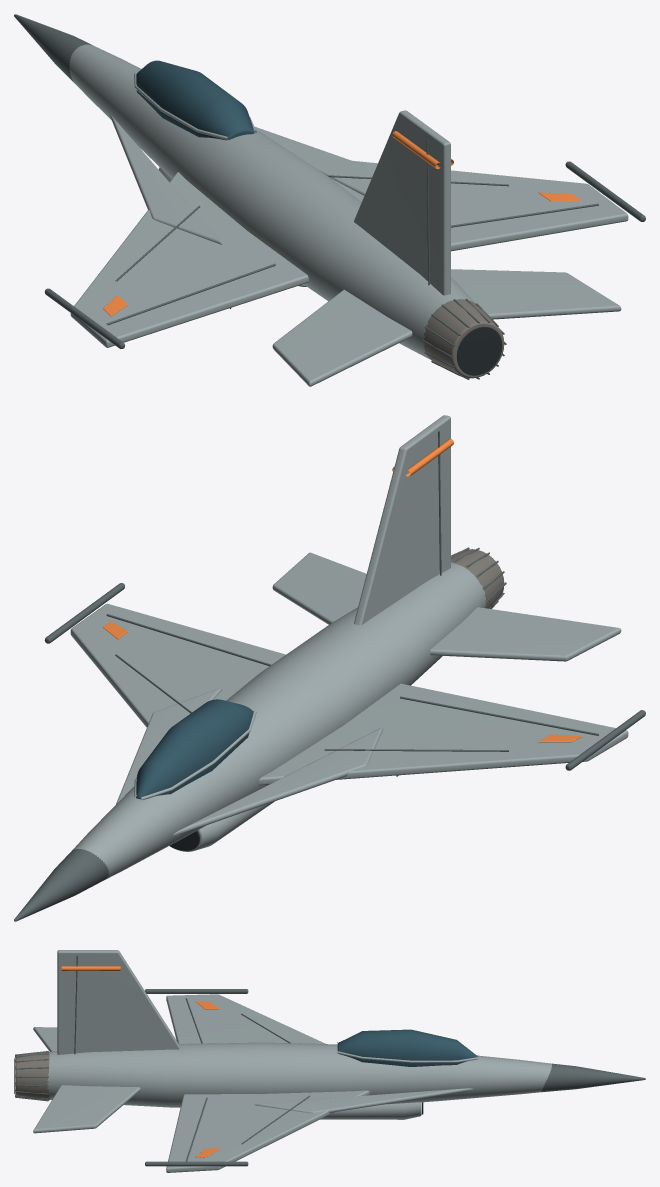
Rendered from kestrel.glb.
The picture shows the model from 3 angles, top to bottom: view 1: azimuth 30°, elevation 25°; view 2: azimuth 150°, elevation 25°; view 3: azimuth 270°, elevation 25°; orthographic projection. The views are drawn at different scales.
Visible parts, largest first — view 1: Titanium grey / painted alloy, Panel seams, Smoked canopy, Exhaust alloy, Carbon and intake shadow, Rescue orange; view 2: Titanium grey / painted alloy, Panel seams, Smoked canopy, Exhaust alloy, Rescue orange; view 3: Titanium grey / painted alloy, Panel seams, Smoked canopy, Exhaust alloy, Rescue orange.
Part boxes in pixels (box(x1,y1,x2,y2)): Titanium grey / painted alloy: box(69, 44, 628, 386); Panel seams: box(14, 14, 645, 379); Smoked canopy: box(136, 60, 254, 140); Exhaust alloy: box(423, 299, 504, 378); Carbon and intake shadow: box(158, 167, 502, 375); Rescue orange: box(103, 131, 581, 316); Titanium grey / painted alloy: box(70, 415, 628, 879); Panel seams: box(14, 431, 645, 921); Smoked canopy: box(136, 699, 253, 799); Exhaust alloy: box(451, 549, 504, 608); Rescue orange: box(103, 439, 581, 742); Titanium grey / painted alloy: box(33, 950, 551, 1172); Panel seams: box(15, 955, 645, 1166); Smoked canopy: box(337, 1029, 477, 1066); Exhaust alloy: box(15, 1052, 49, 1100); Rescue orange: box(61, 966, 219, 1157).
Size of the model in its own units: 11.8 by 5.25 by 18.04.
